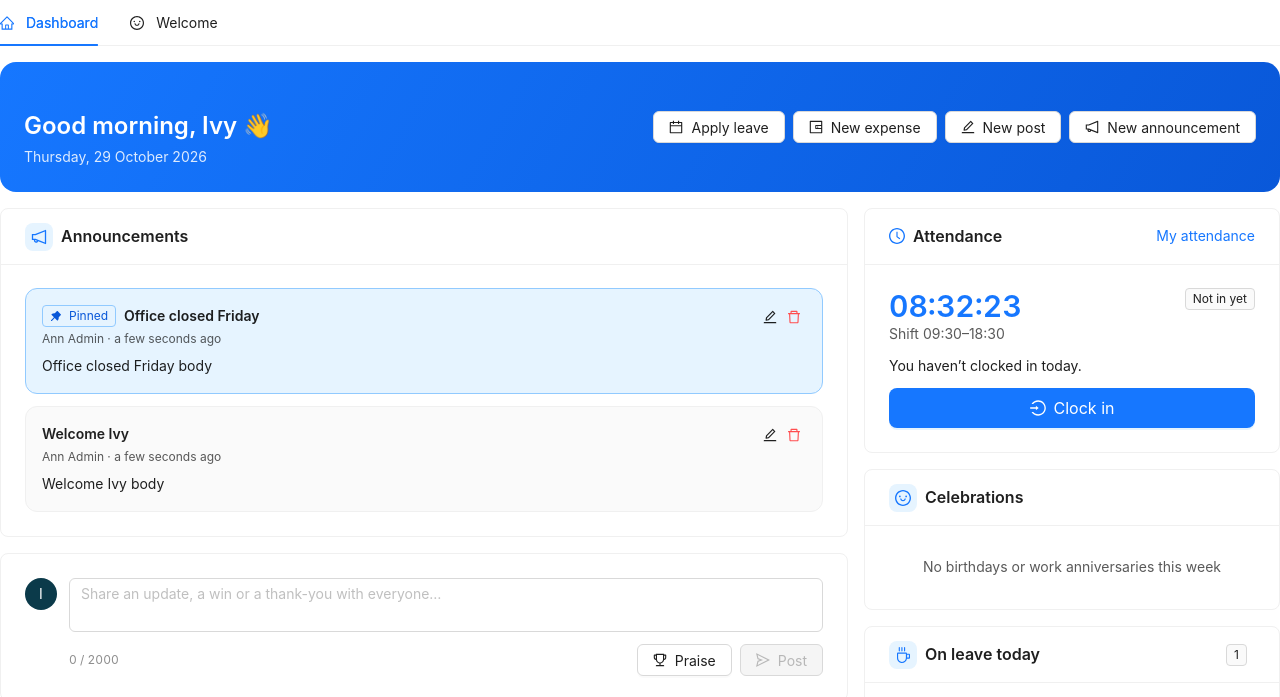
Test case: Home dashboard › lets an ORG_ADMIN publish an announcement
Expected: the text "Office closed Friday" is shown, [124,307,260,324]
Click the button "New announcement" at (1163, 127), box [1069,111,1256,143]
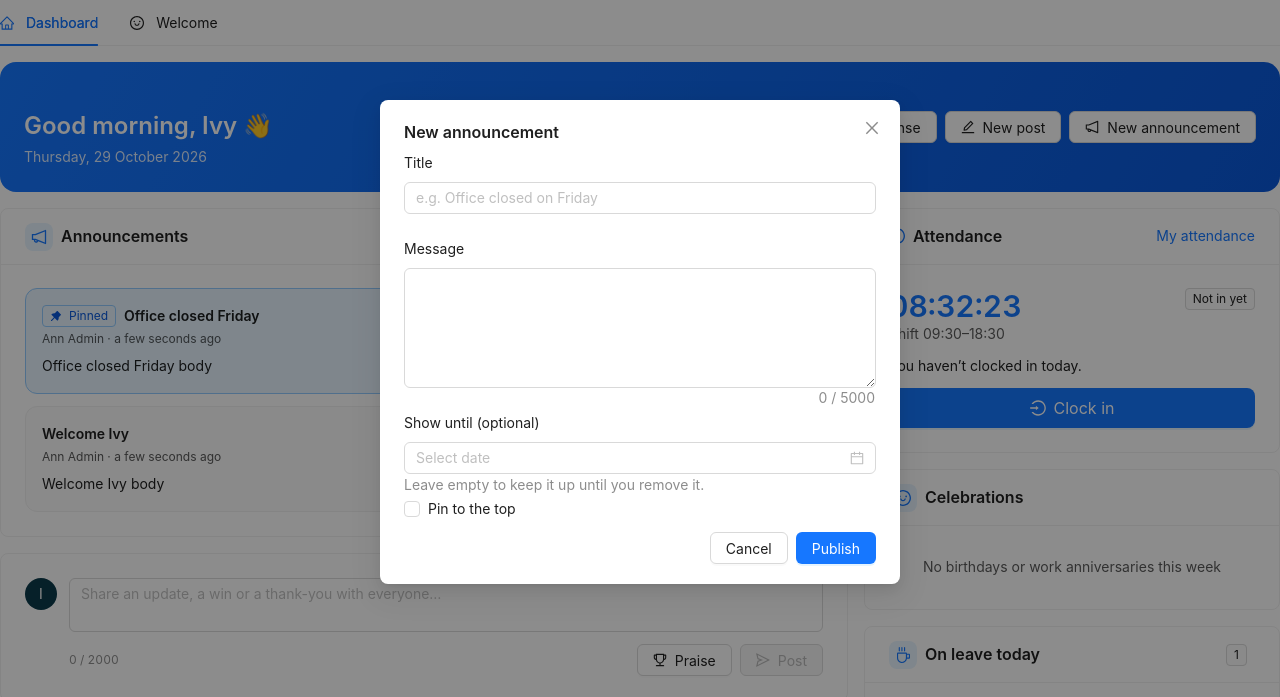
Click the button "Publish" at (836, 548), box [796,532,876,564]
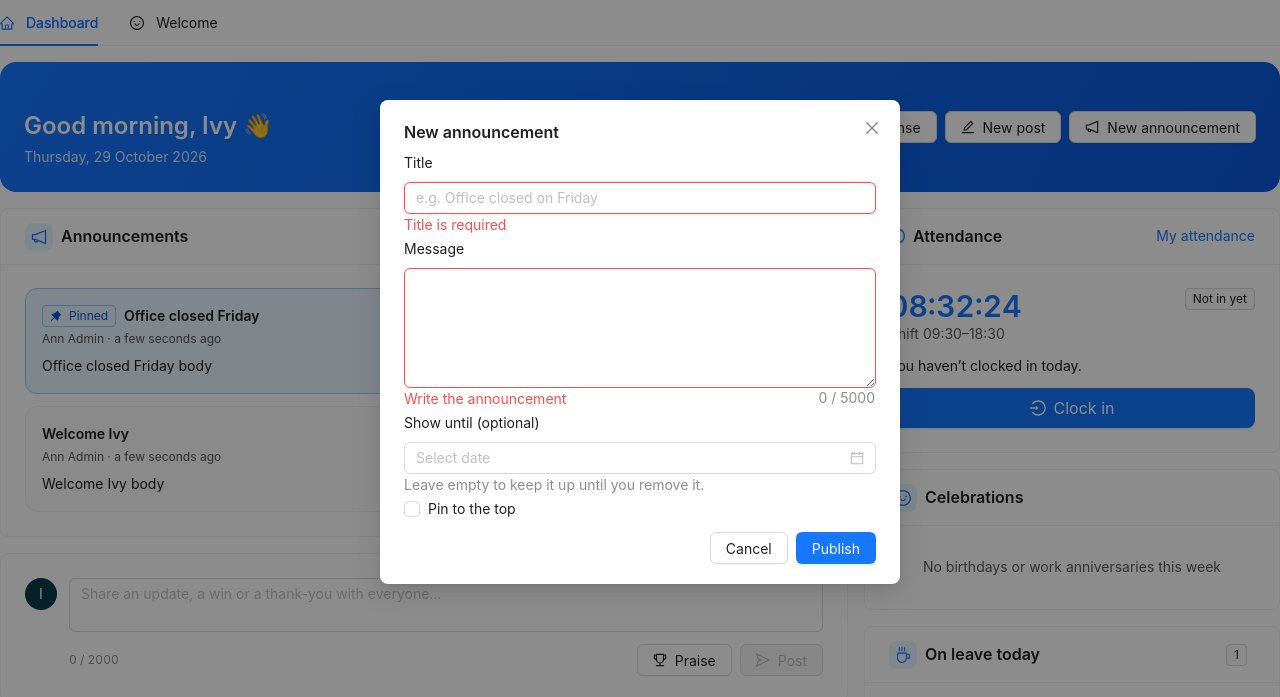
Expected: the text "Title is required" is shown, [404,216,506,233]
Type "Town hall at 4pm" into the field labelled "Title" at (640, 198), box [404,182,876,214]
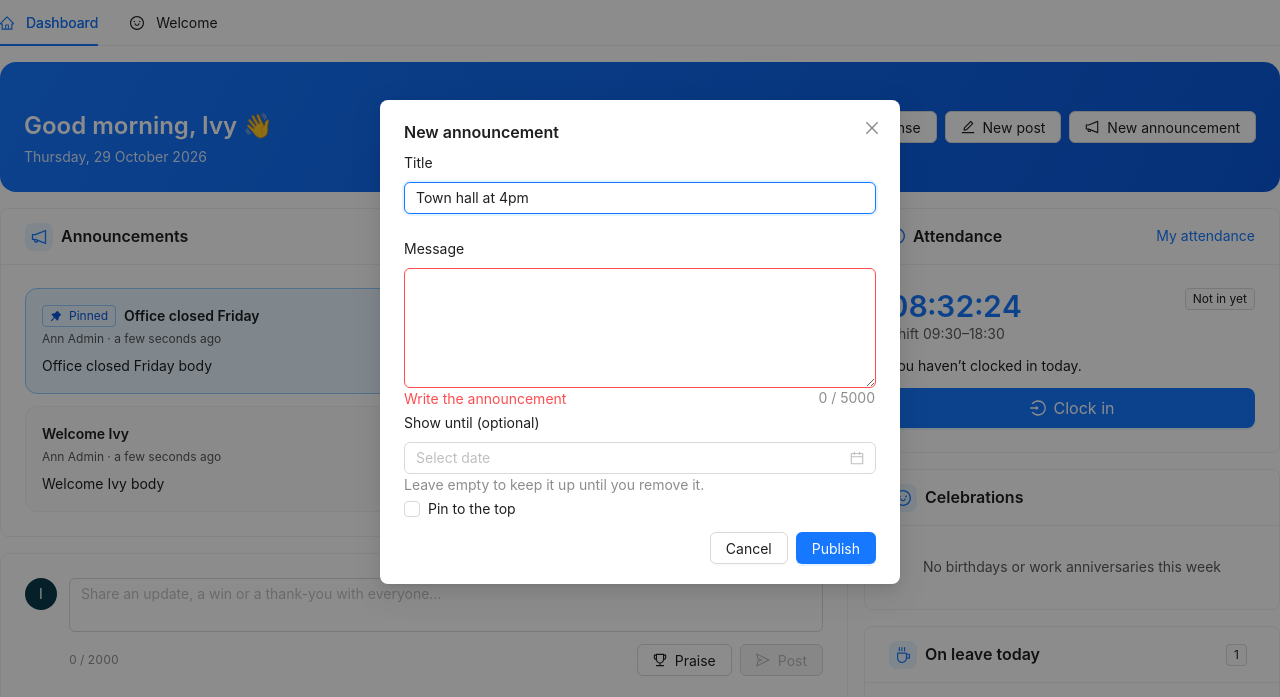
Type "Everyone welcome" into the text box labelled "Message" at (640, 328), box [405,269,875,387]
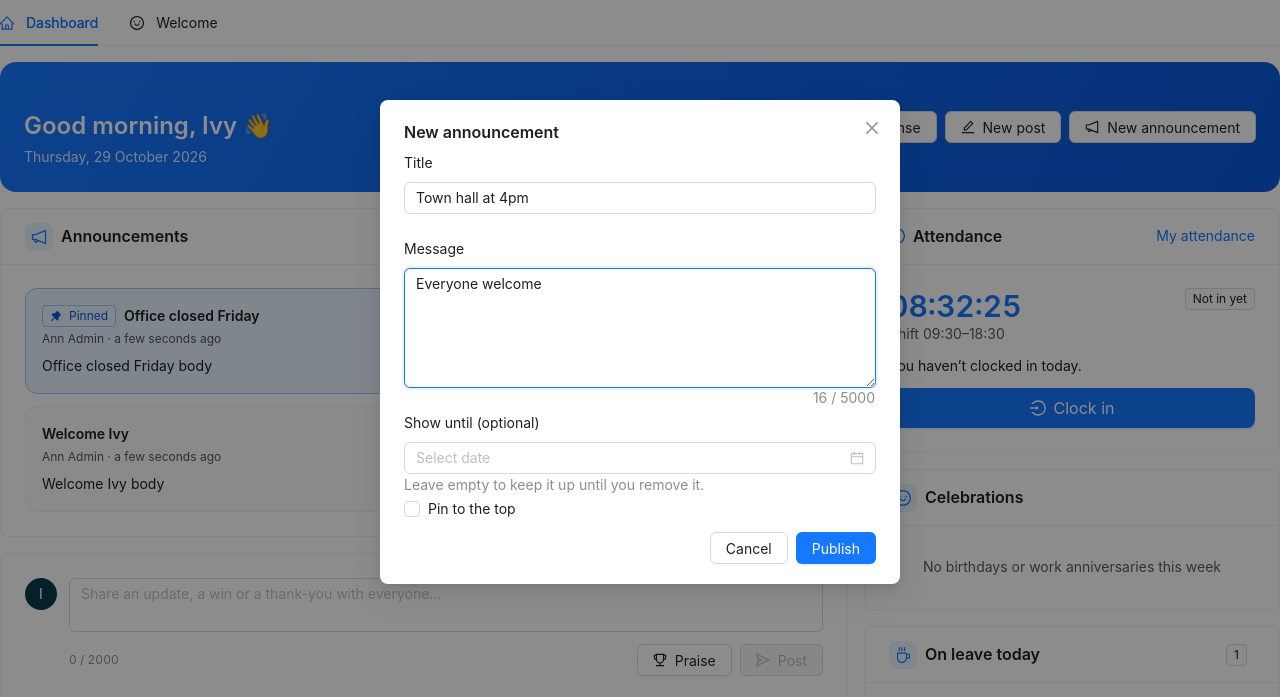
Click the text "Pin to the top" at (472, 508), box [428,500,516,517]
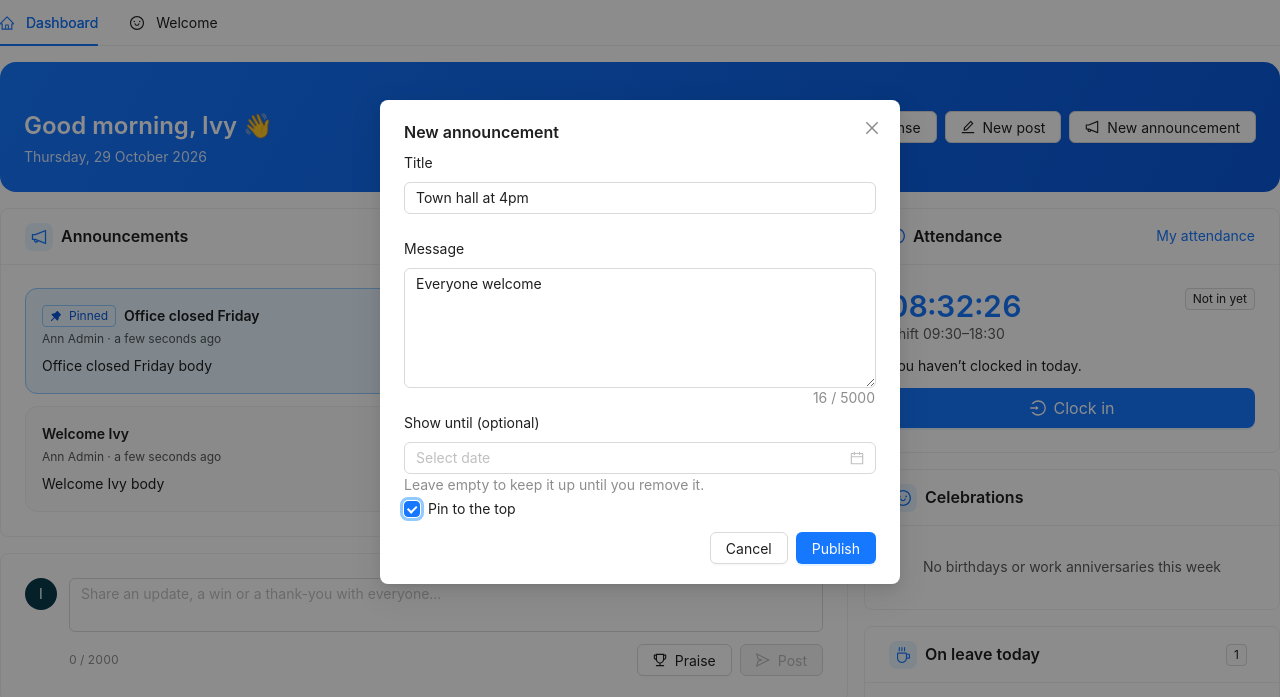
Click the button "Publish" at (836, 548), box [796,532,876,564]
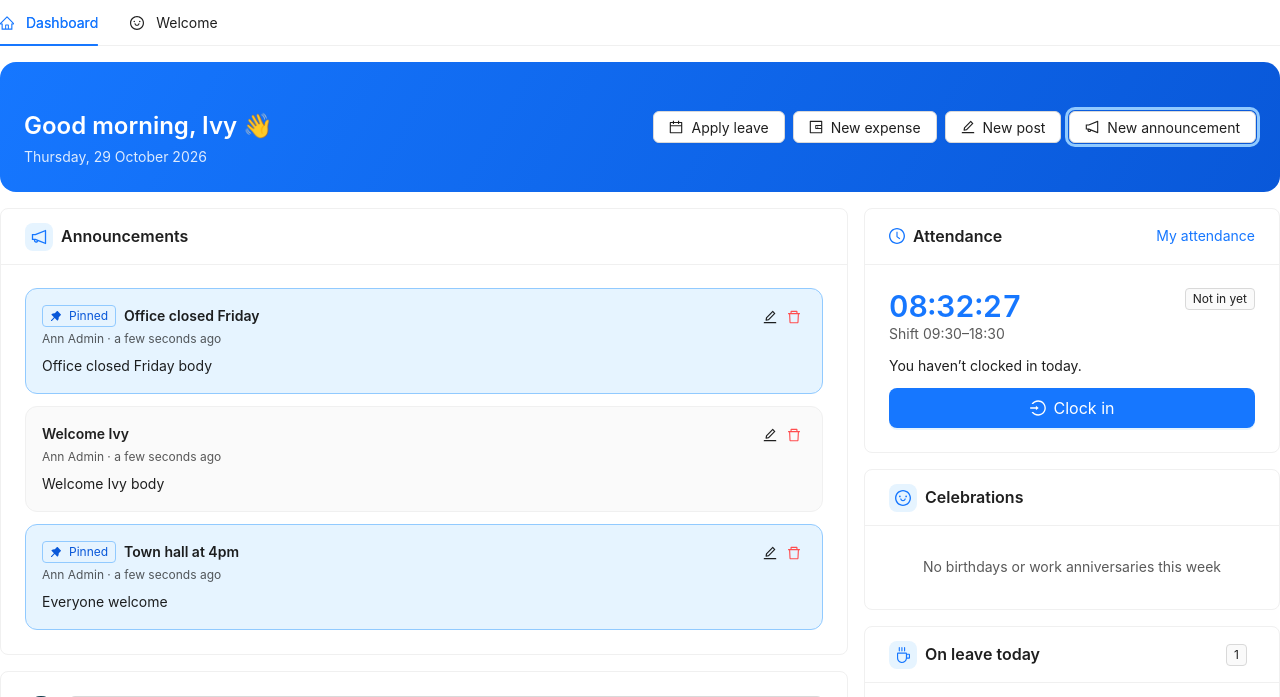
Expected: the text "Town hall at 4pm" is shown, [124,543,239,560]
